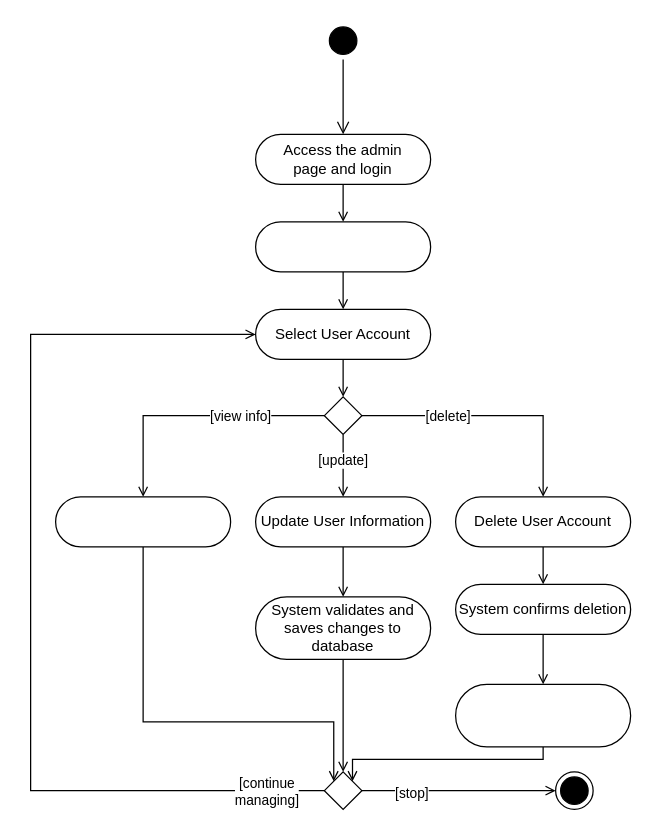
Image size: 653x831. Some labels were removed from this diagram. Each missing label, with the centre of its shape:
"Navigate to User Managing Dashboard" goes at (342,246).
"System deletes account from database" goes at (542,715).
"View User Information" goes at (142,521).
